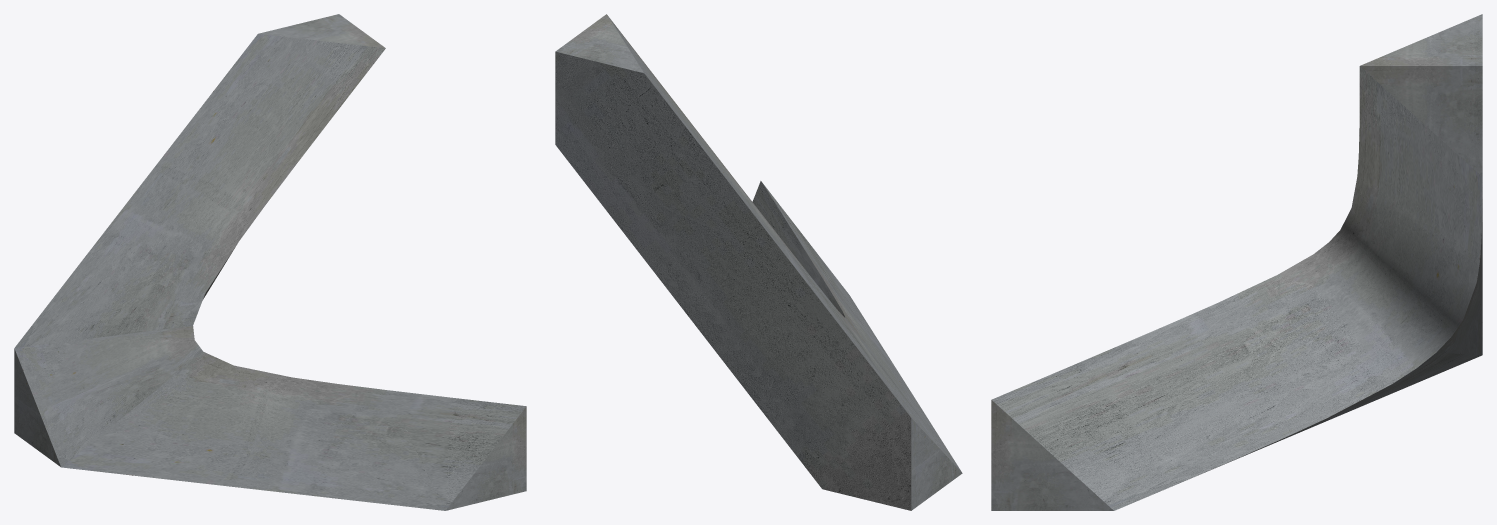
The model's file is module_K3.fbx.
3 renders of one model, left to right at view 1: azimuth 30°, elevation 25°; view 2: azimuth 150°, elevation 25°; view 3: azimuth 270°, elevation 25°, orthographic. The views are drawn at different scales.
Parts seen in each view (by area): view 1: modules; view 2: modules; view 3: modules.
Boxes of the visible parts, x1,y1,x2,y2 form: modules: (14,14,526,510); modules: (555,14,962,510); modules: (991,14,1482,510).
Bounding box in the file's own units: 1000 × 1000 × 1000.
1 material, 1 textured.
